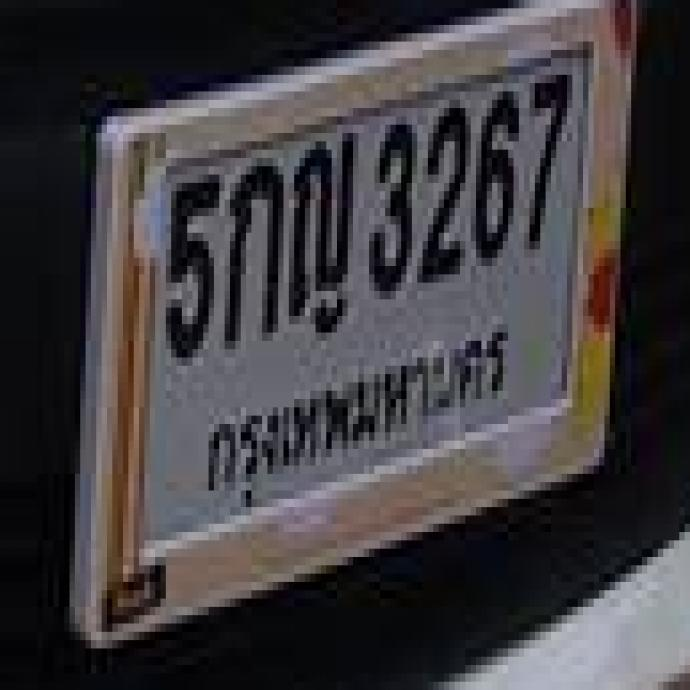2: (418, 99, 465, 275)
3: (366, 118, 411, 291)
5: (162, 168, 216, 355)
6: (470, 84, 514, 258)
7: (525, 66, 568, 248)
A01: (223, 156, 281, 339)
A13: (287, 129, 353, 333)
BKK: (201, 320, 516, 490)
